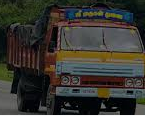truck: (3, 3, 145, 115)
